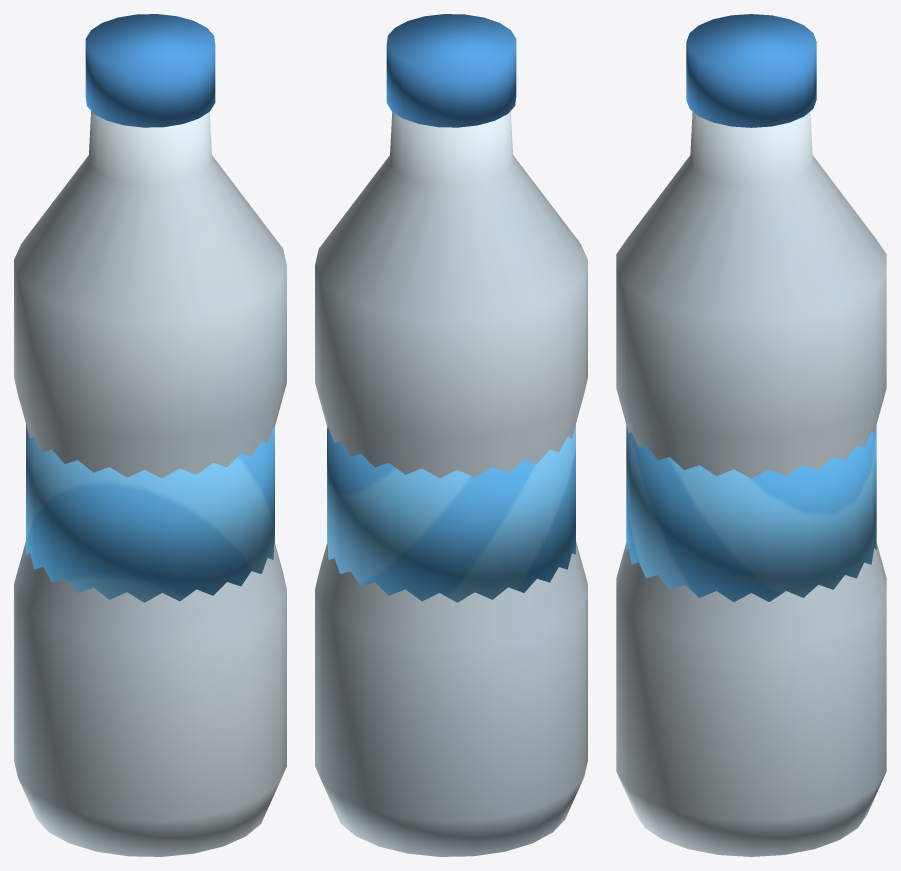
The model's file is air_mineral.fbx.
3 renders of one model, left to right at view 1: azimuth 30°, elevation 25°; view 2: azimuth 150°, elevation 25°; view 3: azimuth 270°, elevation 25°, orthographic.
Parts seen in each view (by area): view 1: air_mineral; view 2: air_mineral; view 3: air_mineral.
Part boxes in pixels (left/top/right/bottom): air_mineral: left=14, top=14, right=286, bottom=856; air_mineral: left=315, top=14, right=587, bottom=856; air_mineral: left=616, top=14, right=886, bottom=856.
Size of the model in its own units: 8.4 by 26 by 8.31.
1 material, 1 textured.
